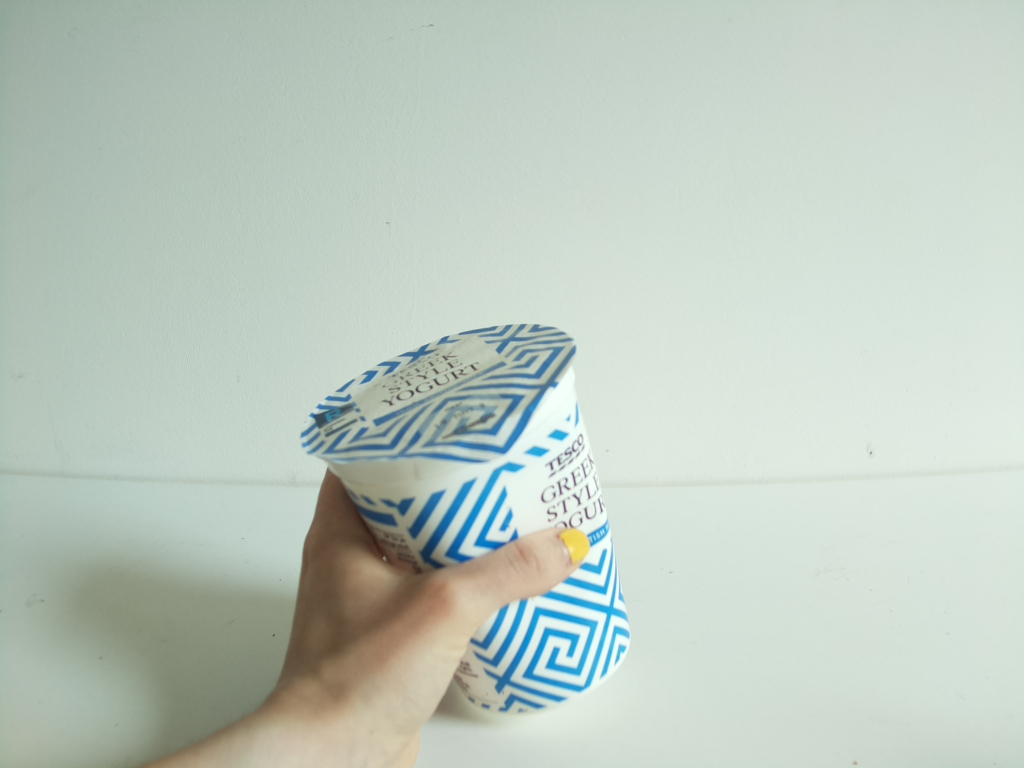yogurt: (296, 314, 642, 719)
